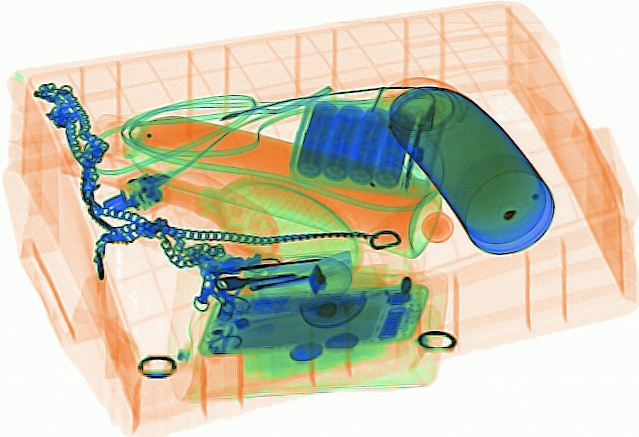powerbank: (284, 97, 437, 198)
pressure: (86, 110, 444, 263)
